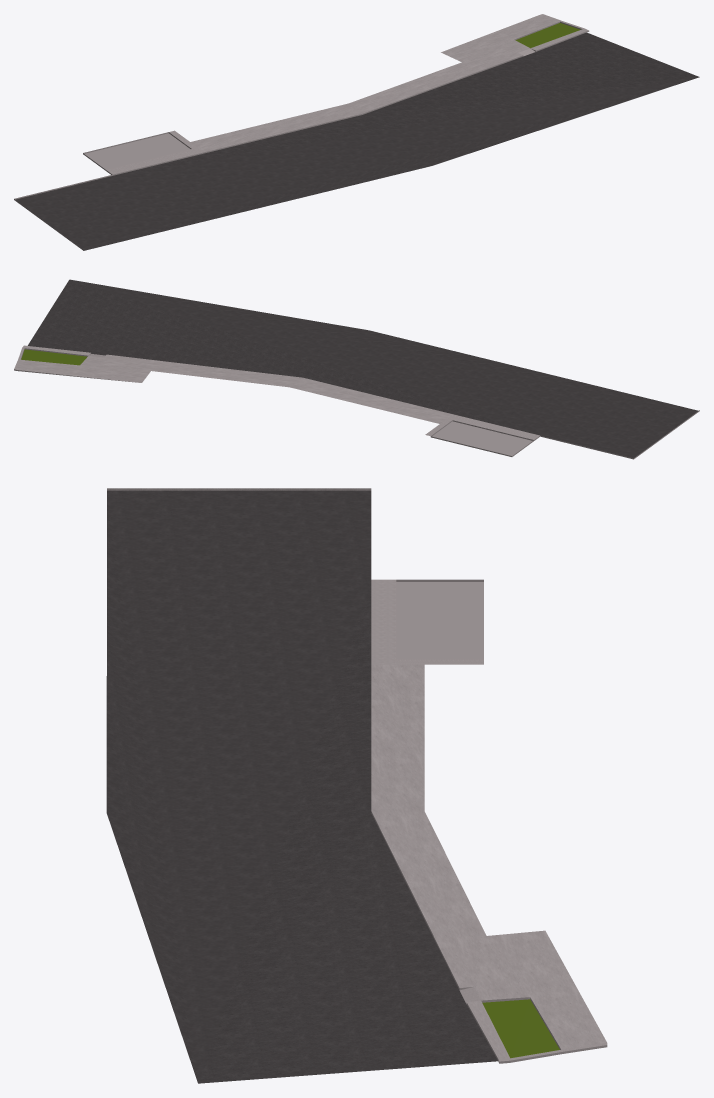
File: vereda_asfalto.glb
3 renders of one model, top to bottom at view 1: azimuth 30°, elevation 25°; view 2: azimuth 150°, elevation 25°; view 3: azimuth 270°, elevation 25°, orthographic. The views are drawn at different scales.
Parts seen in each view (by area): view 1: base cisterna; view 2: base cisterna; view 3: base cisterna.
Part boxes in pixels (x1,y1,x2,y2): base cisterna: (14,14,699,250); base cisterna: (14,279,699,459); base cisterna: (106,488,607,1083).
Size of the model in its own units: 564 by 5.12 by 201.
3 materials, 2 textured.
